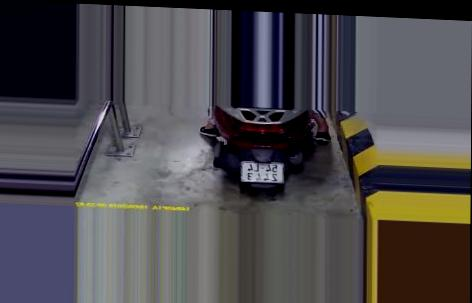License_Plate: (238, 159, 289, 189)
